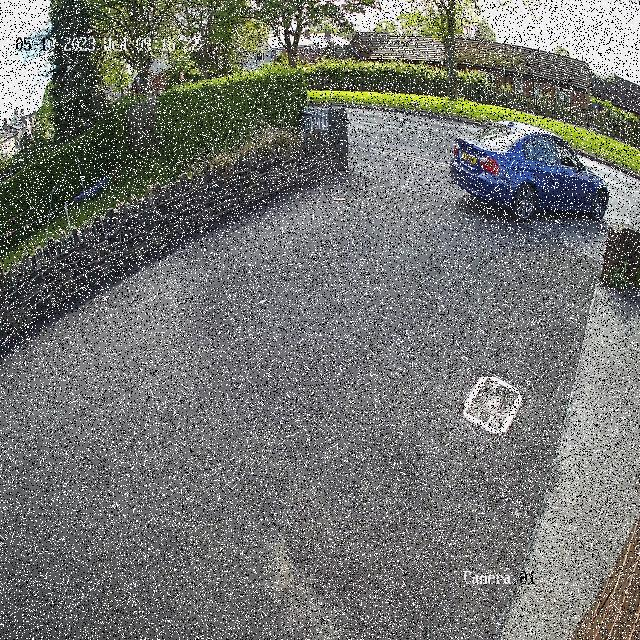vehicle: (445, 112, 619, 234)
